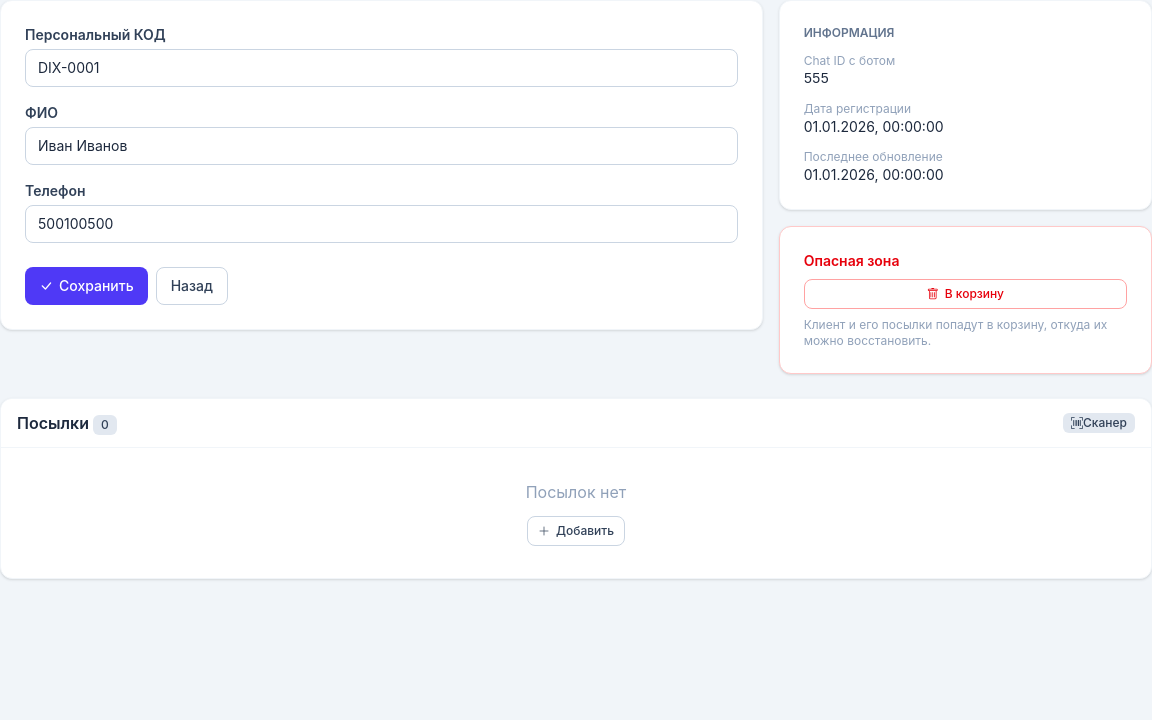
UserDetailView — add package modal › opens from the empty-state button when there are no packages
Click the button "Добавить".
click(576, 531)  # box [527,516,625,546]
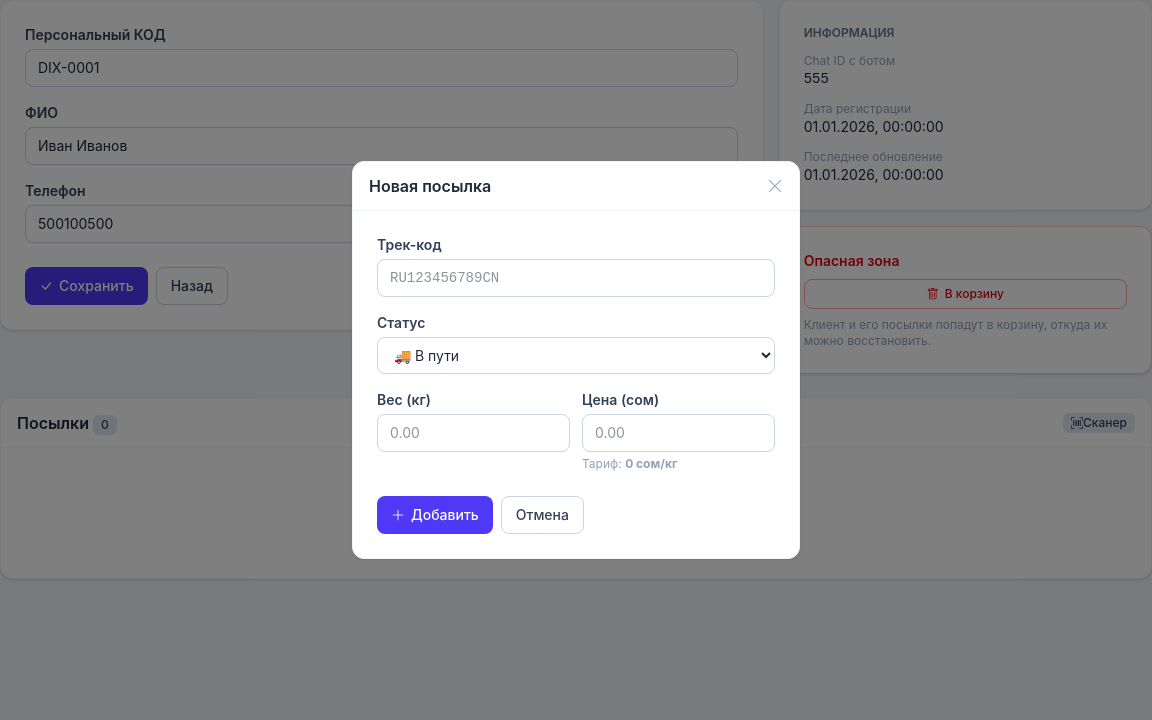
Expected: the text "Новая посылка" is shown, [369,174,491,198]
